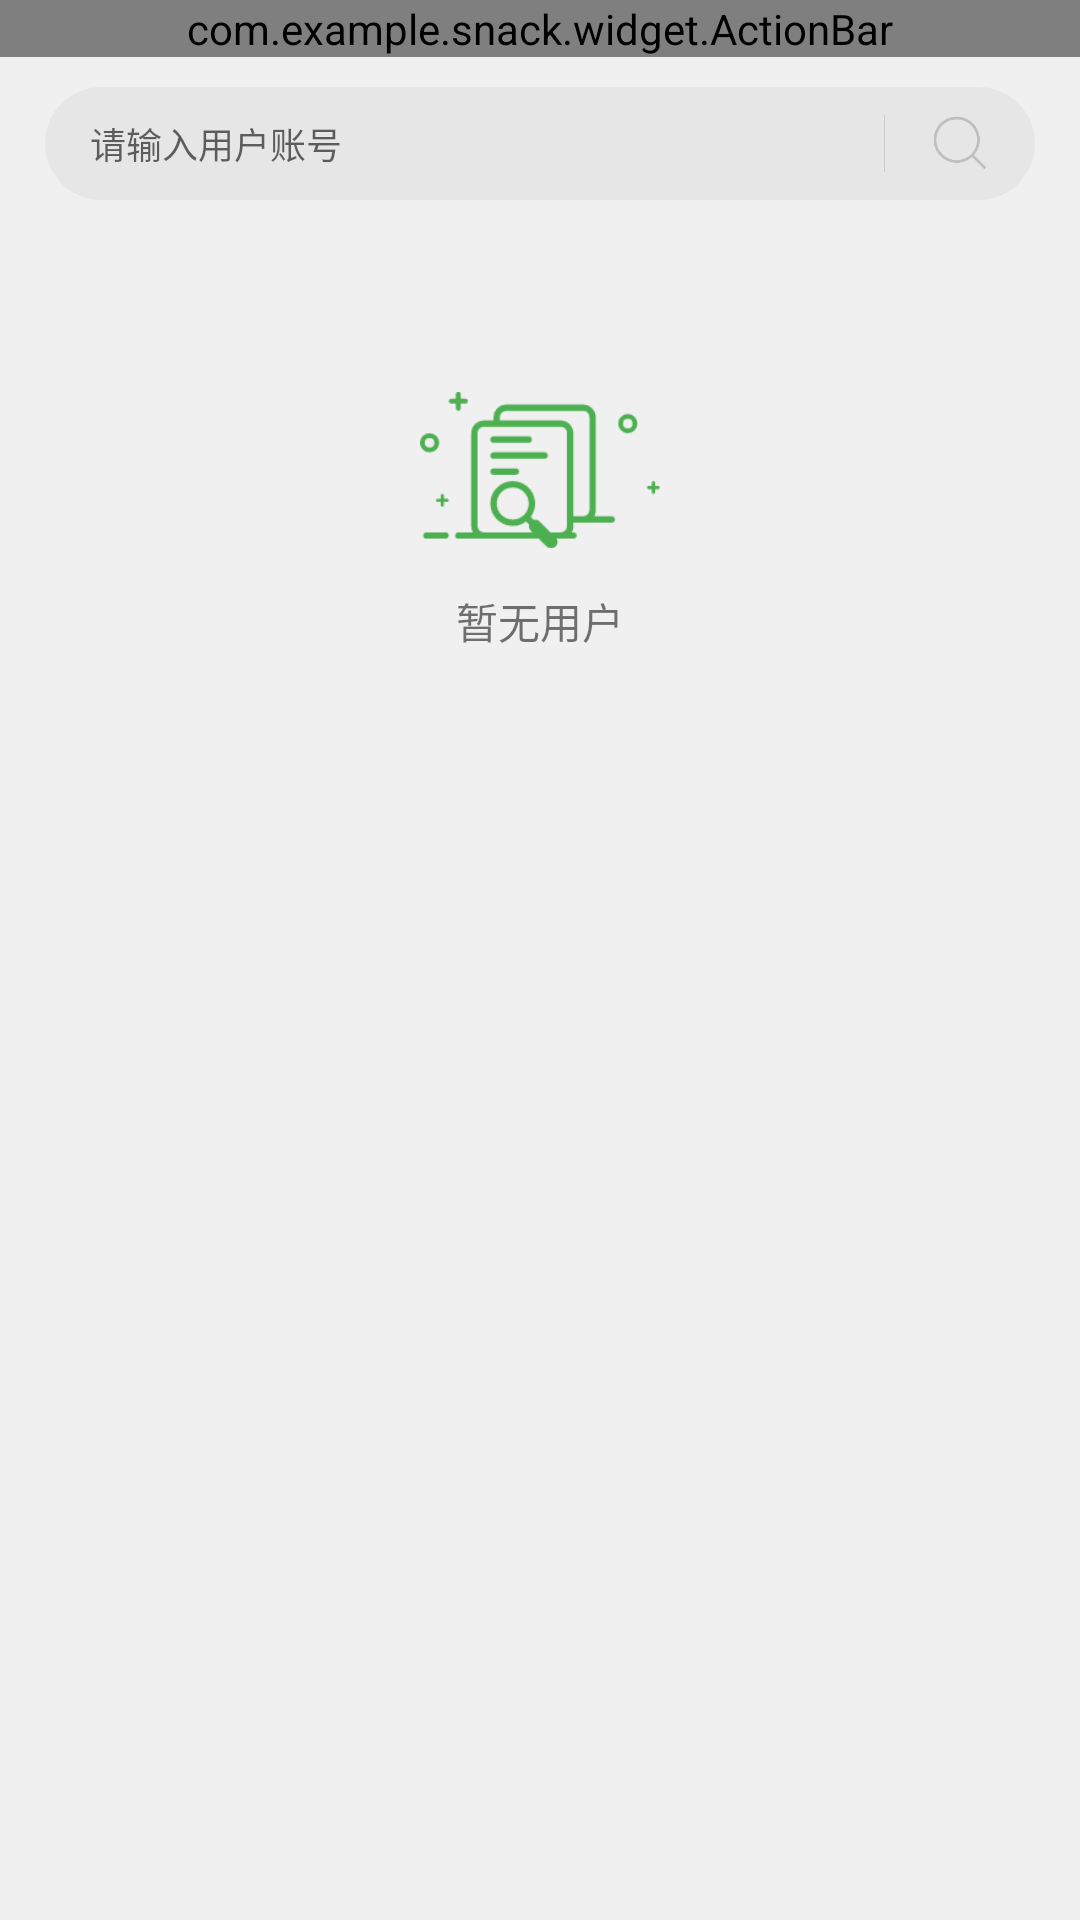

Point at icon controls on the screen. Image size 1080px x 1920px, points as (x=x, y=y).
search: (x=960, y=143)
